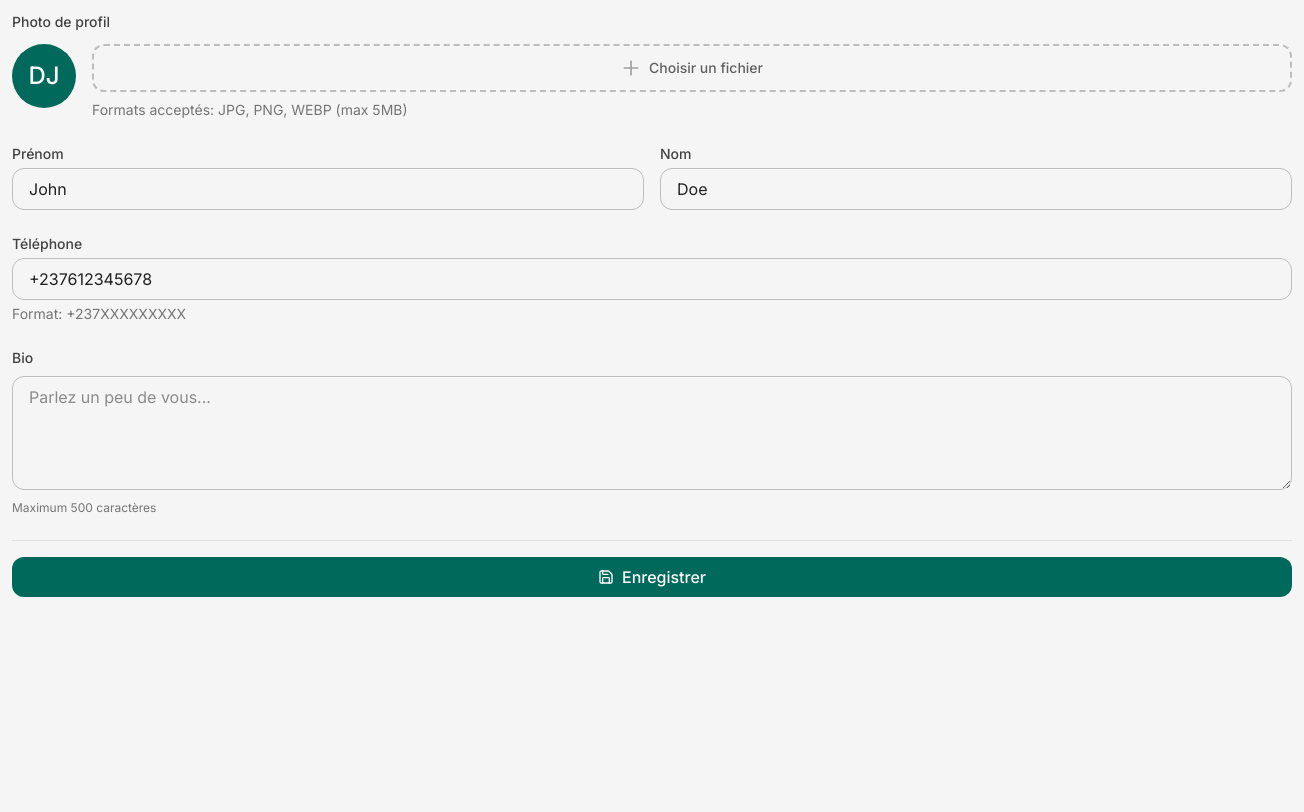
Test: ProfileForm - logique metier › rejette un nom trop court avant soumission
The image size is (1304, 812).
Replace the text in the field labelled "Nom" with "D": x=976, y=189 [660,168,1292,210]
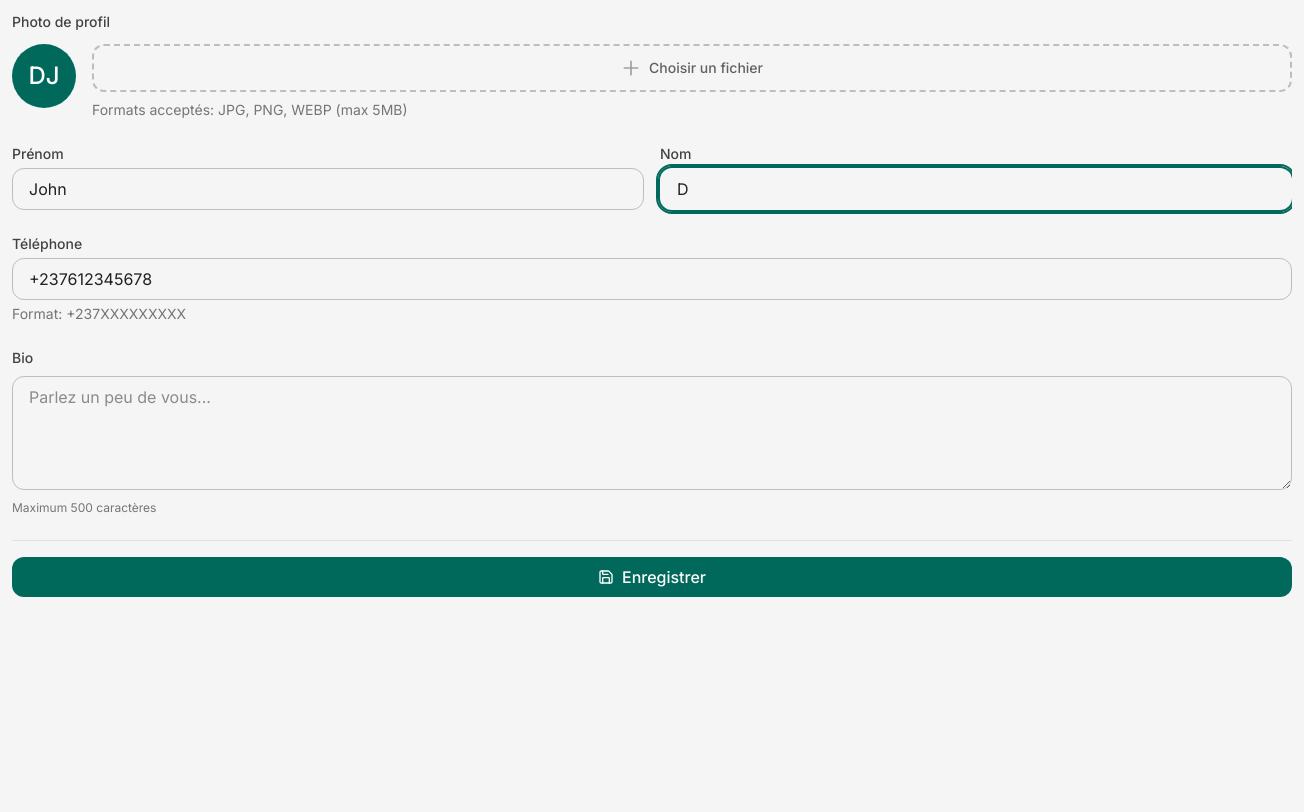
Click the button "Enregistrer": x=652, y=577 [12,557,1292,597]
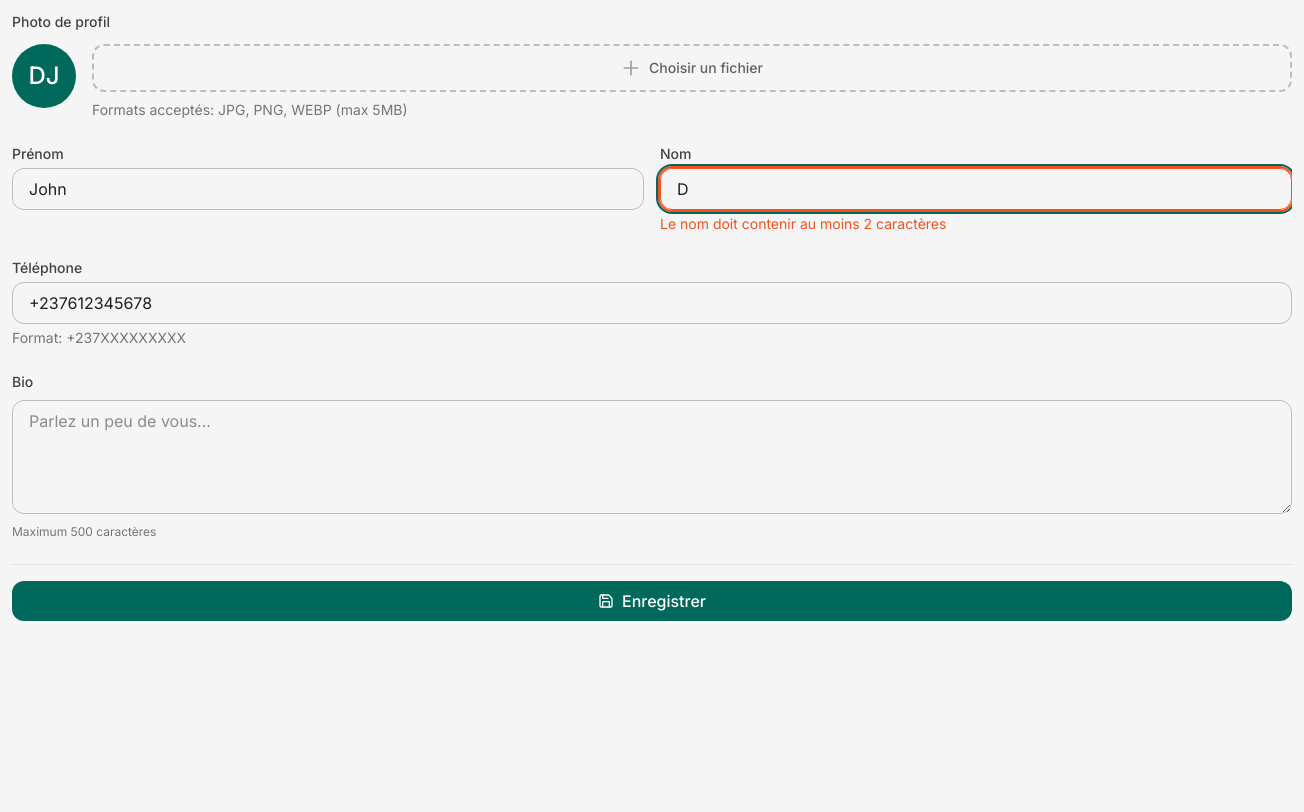
Check: the text "Le nom doit contenir au moins 2 caractères" is shown, box [660,215,946,232]
